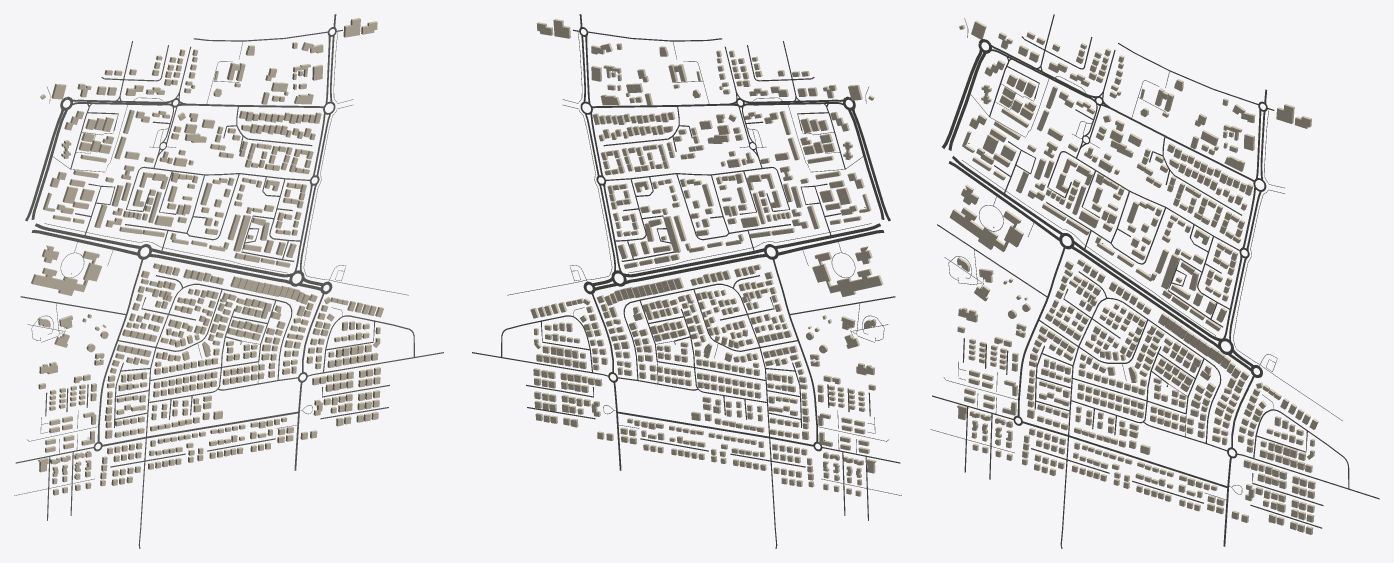
Rendered from historic-palestine-04_19_3462_3130.glb.
3 views of the same model, side by side, from view 1: azimuth 30°, elevation 25°; view 2: azimuth 150°, elevation 25°; view 3: azimuth 330°, elevation 25° (orthographic). The views are drawn at different scales.
Visible parts, largest first — view 1: Building_.695, Road הטייסים.002, Road הטייסים; view 2: Building_.695, Road הטייסים.002, Road הטייסים; view 3: Building_.695, Road הטייסים.002, Road הטייסים, Road קרית ספר.
Part boxes in pixels (bbox=[...]): Building_.695: bbox=[31, 251, 102, 295]; Road הטייסים.002: bbox=[148, 254, 291, 284]; Road הטייסים: bbox=[150, 248, 292, 277]; Building_.695: bbox=[812, 252, 883, 296]; Road הטייסים.002: bbox=[624, 254, 766, 284]; Road הטייסים: bbox=[623, 248, 765, 277]; Building_.695: bbox=[949, 207, 1023, 251]; Road הטייסים.002: bbox=[1071, 246, 1220, 349]; Road הטייסים: bbox=[1072, 240, 1221, 341]; Road קרית ספר: bbox=[1022, 421, 1228, 488].
Bounding box in the file's own units: 1206 × 1367 × 10.5.
